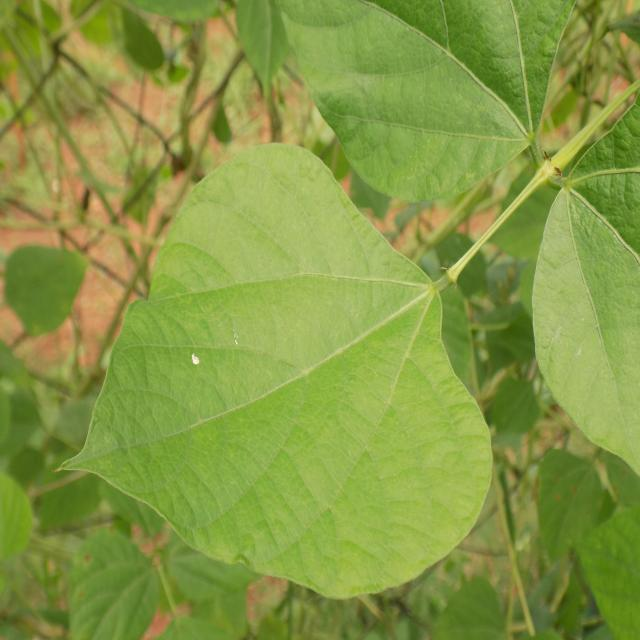Dolicos bean_healthy: (47, 140, 491, 597)
